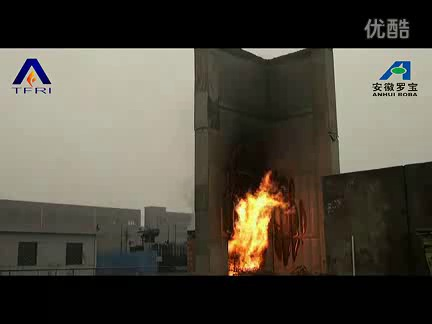fire: (223, 169, 290, 277)
